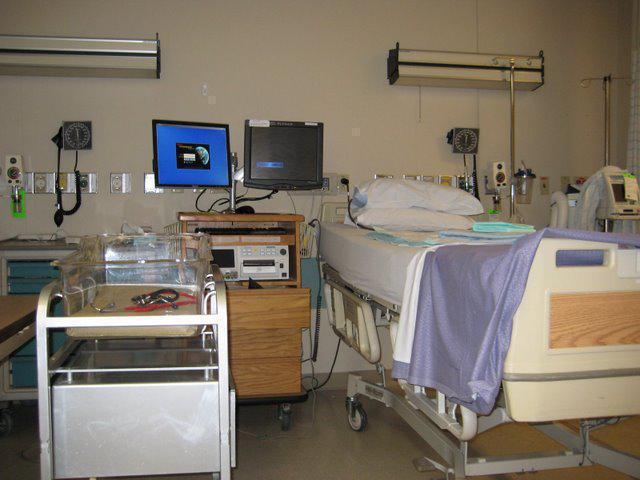Cama: (326, 185, 637, 477)
